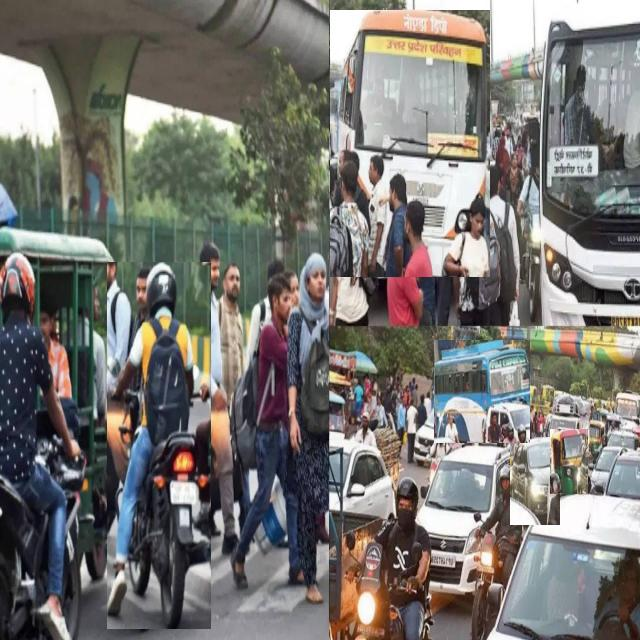autorickshaw: (550, 429, 588, 494)
bus: (330, 11, 490, 277), (535, 22, 640, 327), (434, 340, 530, 443)
car: (419, 447, 521, 593), (510, 437, 560, 525)
motorcycle: (107, 262, 210, 629), (358, 478, 432, 640), (472, 464, 522, 640)
